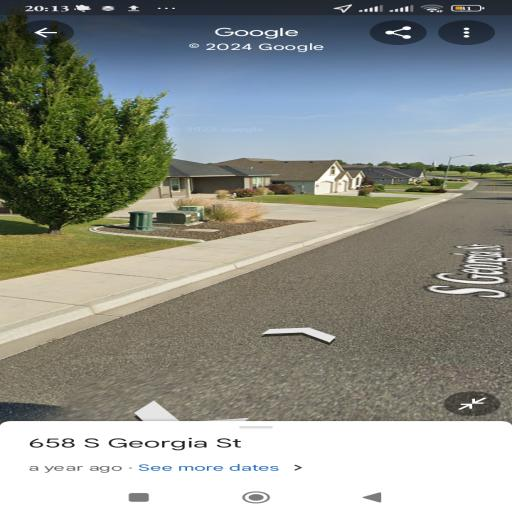Roads: (0, 162, 503, 419)
Trees: (0, 6, 168, 225)
